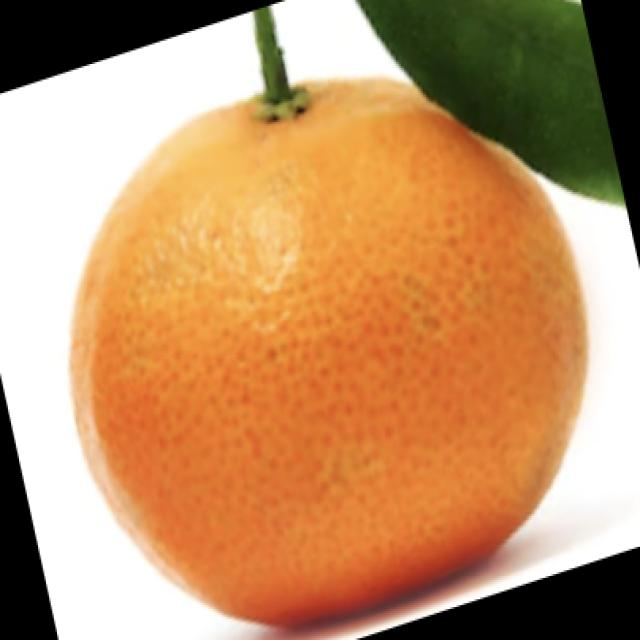matang: (69, 90, 582, 640)
